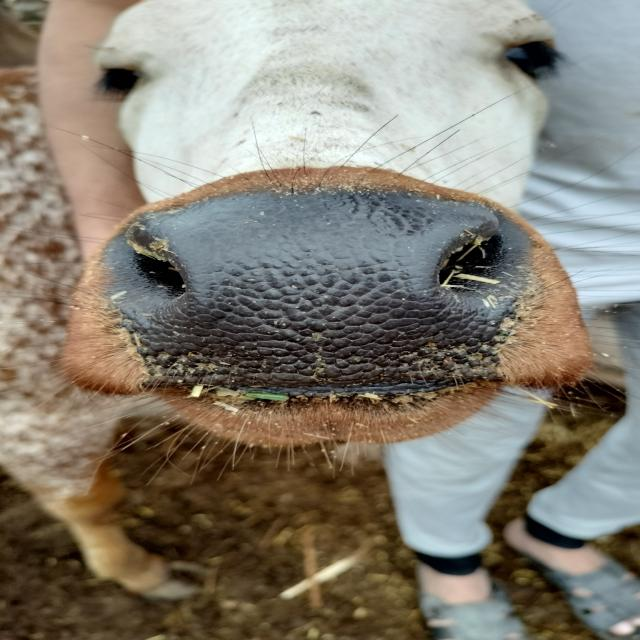muzzles: (120, 185, 540, 395)
